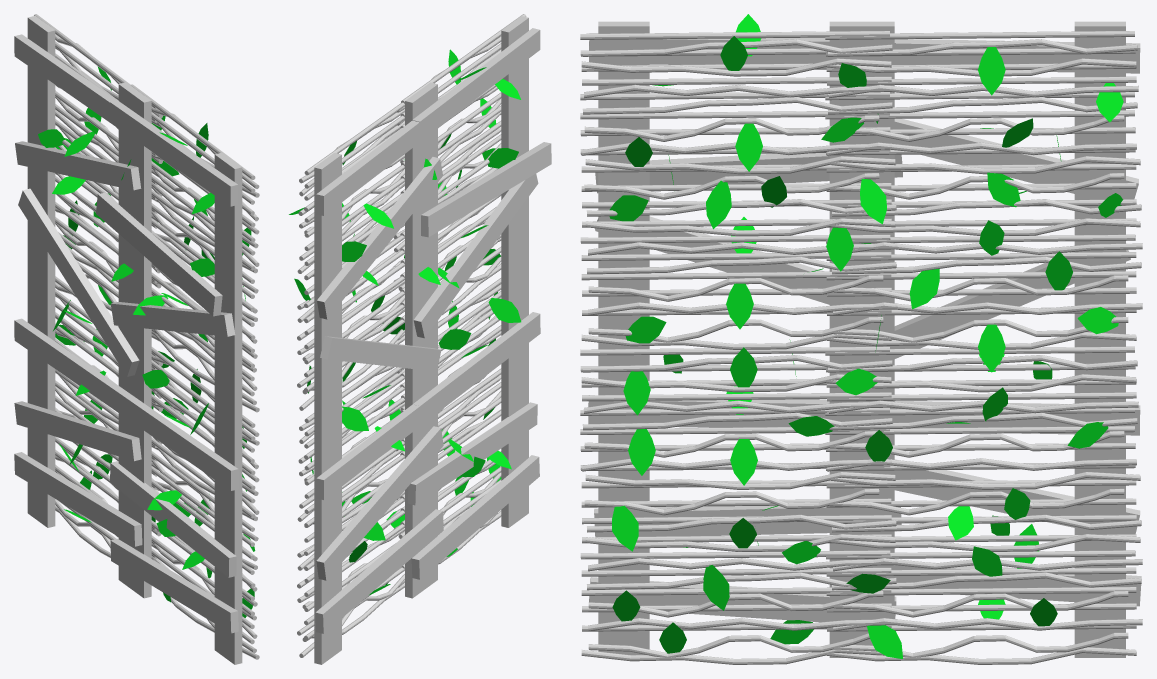
File: Puerta.fbx
3 views of the same model, side by side, from view 1: azimuth 30°, elevation 25°; view 2: azimuth 150°, elevation 25°; view 3: azimuth 270°, elevation 25° (orthographic). The views are drawn at different scales.
Visible parts, largest first — view 1: Puerta, Hoja.001; view 2: Puerta, Hoja.001; view 3: Puerta, Hoja.001.
Boxes of the visible parts, x1,y1,x2,y2 form: Puerta: (14,14,259,664); Hoja.001: (38,66,255,617); Puerta: (297,14,551,664); Hoja.001: (289,49,521,594); Puerta: (580,21,1142,664); Hoja.001: (609,14,1123,658).
Size of the model in its own units: 58.9 by 452 by 363.
